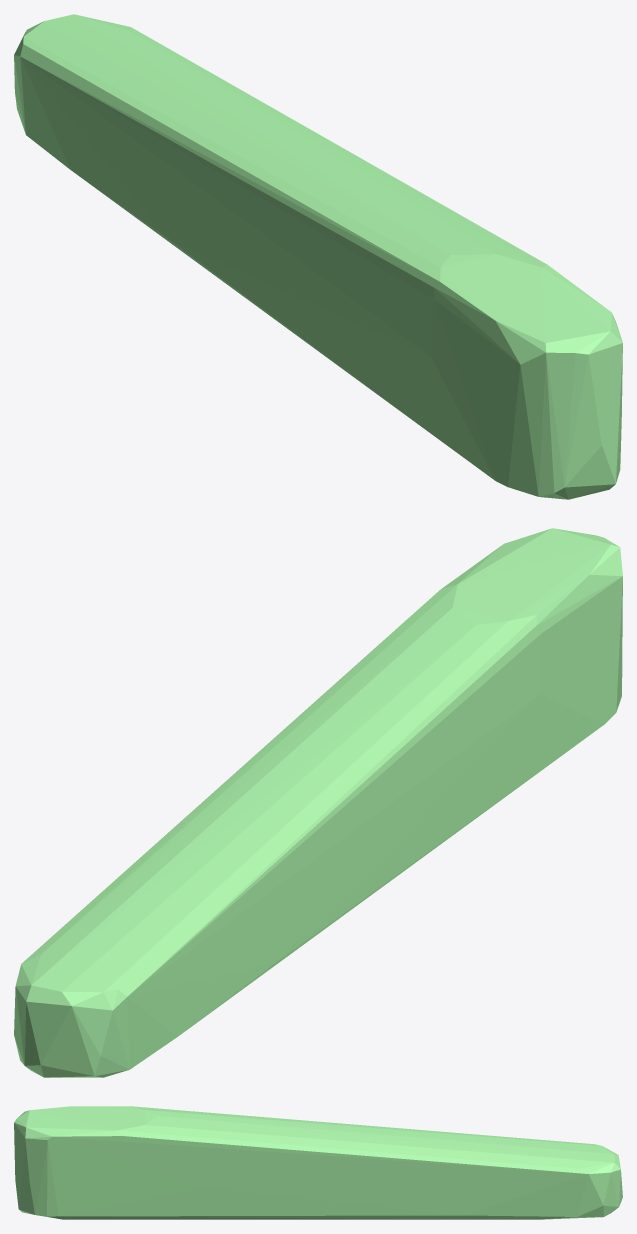
The model's file is dvkr_robot_Lp21_respondable_PSM2_coll_1.dae.
The picture shows the model from 3 angles, top to bottom: view 1: azimuth 30°, elevation 25°; view 2: azimuth 150°, elevation 25°; view 3: azimuth 270°, elevation 25°; orthographic projection. The views are drawn at different scales.
Parts seen in each view (by area): view 1: Node_0000023514CDA040; view 2: Node_0000023514CDA040; view 3: Node_0000023514CDA040.
Boxes of the visible parts, <box> form: Node_0000023514CDA040: <box>14,14,622,499</box>; Node_0000023514CDA040: <box>14,528,622,1077</box>; Node_0000023514CDA040: <box>14,1106,622,1219</box>.
Size of the model in its own units: 0.0203 by 0.0278 by 0.1764.
